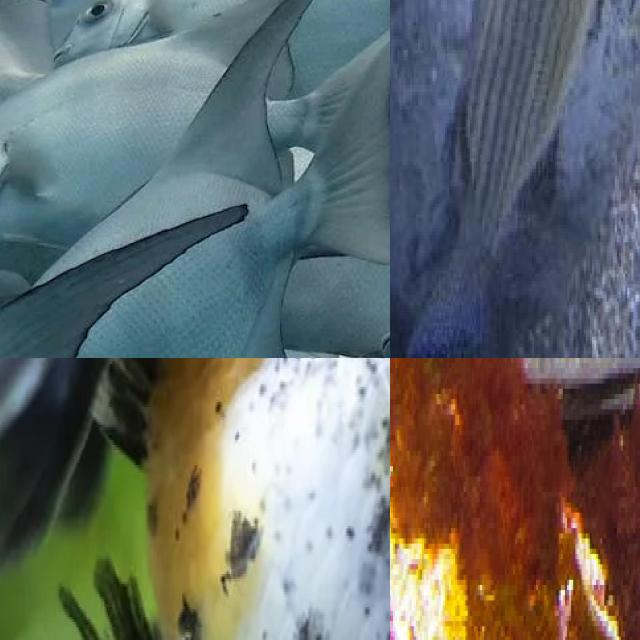fish: (0, 0, 390, 358), (585, 0, 640, 358)
